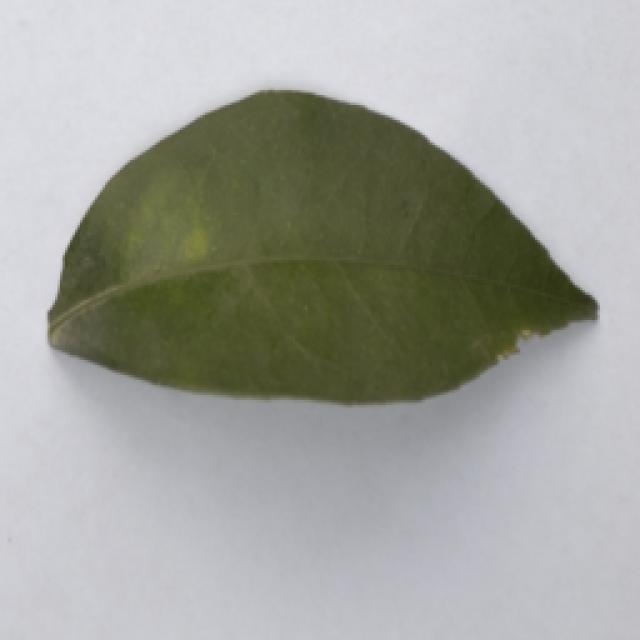healthy: (42, 77, 602, 421)
